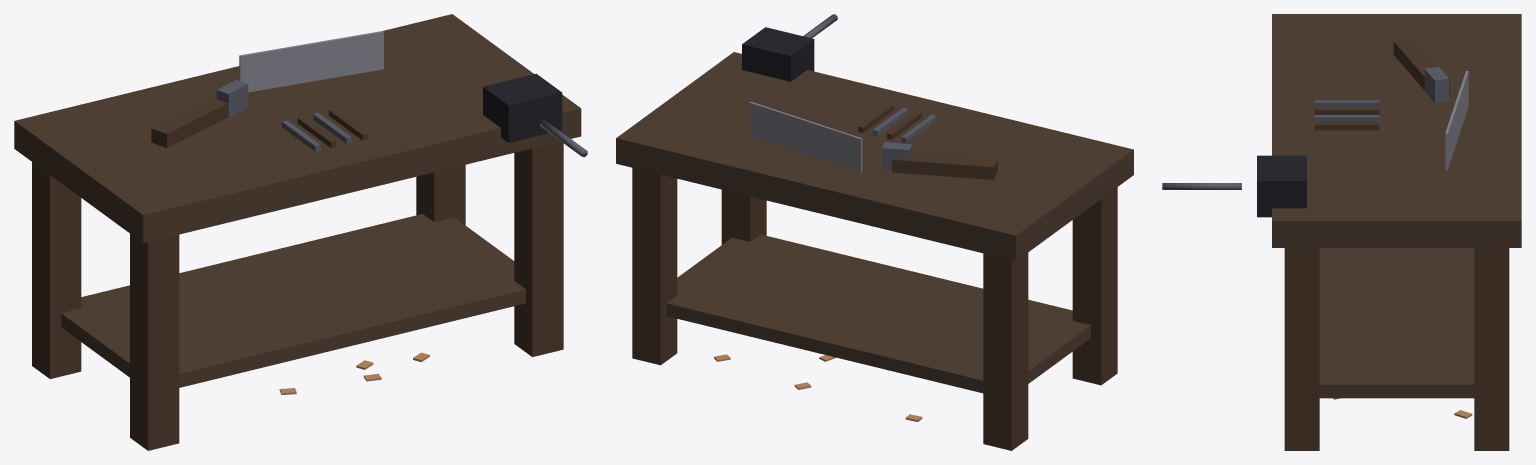
Rendered from workbench.glb.
3 renders of one model, left to right at view 1: azimuth 30°, elevation 25°; view 2: azimuth 150°, elevation 25°; view 3: azimuth 270°, elevation 25°, orthographic. The views are drawn at different scales.
Visible parts, largest first — view 1: workbench; view 2: workbench; view 3: workbench.
Part boxes in pixels (x1,y1,x2,y2): workbench: (14, 14, 587, 450); workbench: (616, 14, 1133, 450); workbench: (1162, 14, 1521, 450).
Size of the model in its own units: 0.98 by 0.6 by 0.72.
